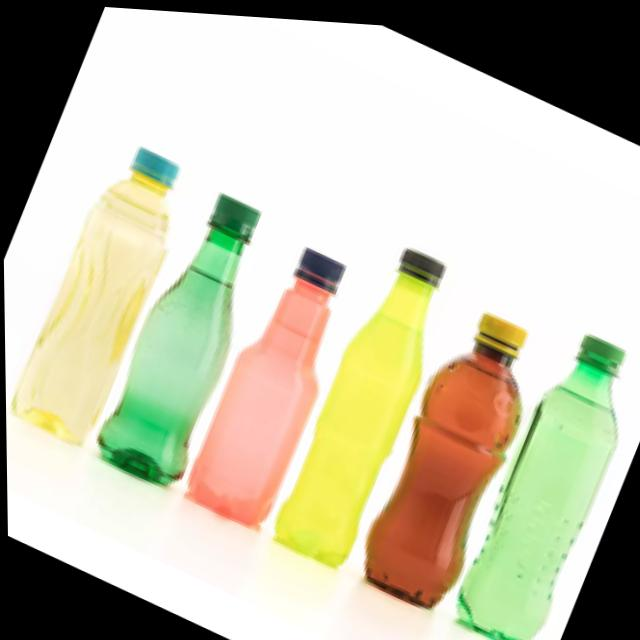plastic_soda_bottles: (255, 222, 469, 577), (344, 285, 557, 617), (436, 305, 640, 640), (88, 176, 289, 490), (177, 220, 373, 539)
plastic_water_bottles: (1, 126, 204, 457)
